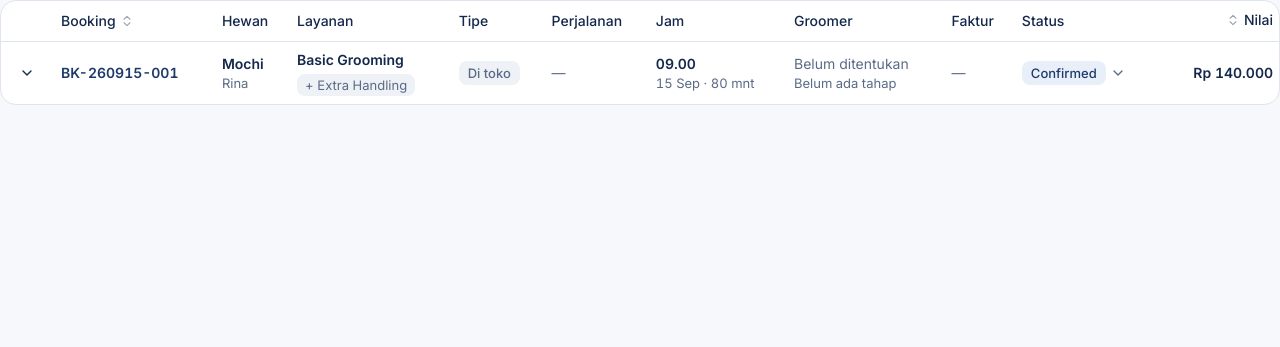
it: GroomingBookingsTable — Rincian › stays as it was for a booking with no discount
Step 1. Click the button named "buka rincian mochi" → (27, 73), box [9,57,45,89]
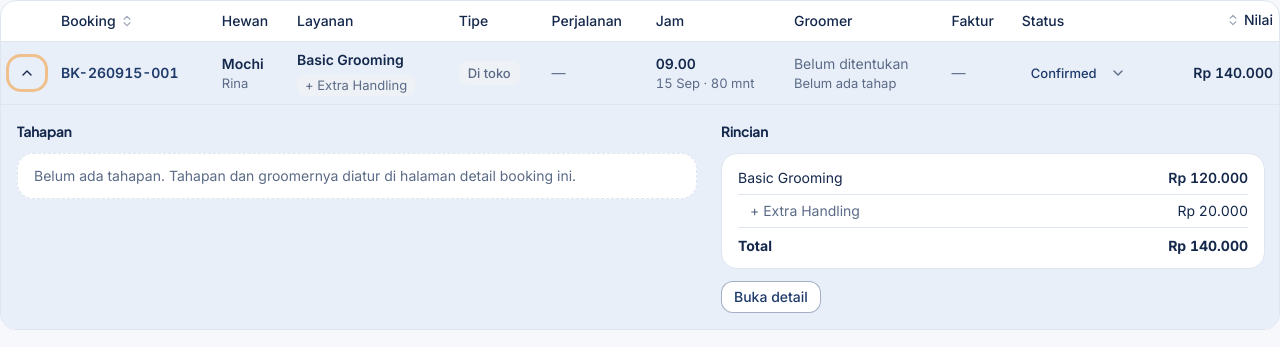
Expected: the text "Rp 140.000" is shown, [1168,236,1248,256]
